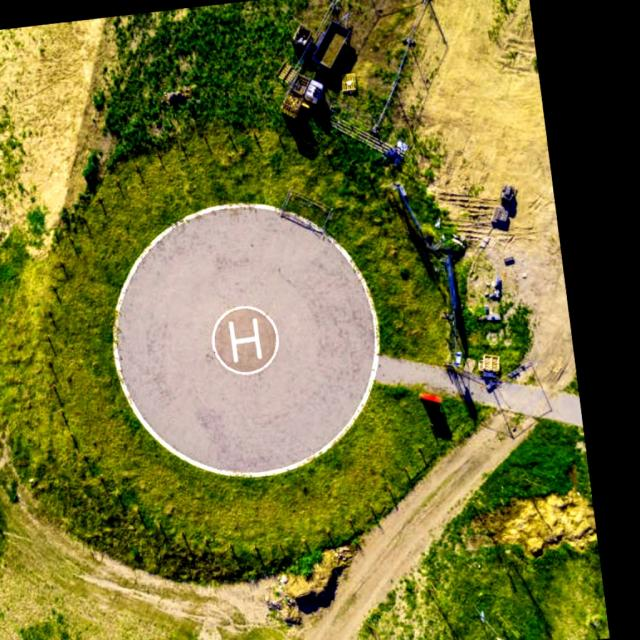helipad: (210, 304, 280, 376)
